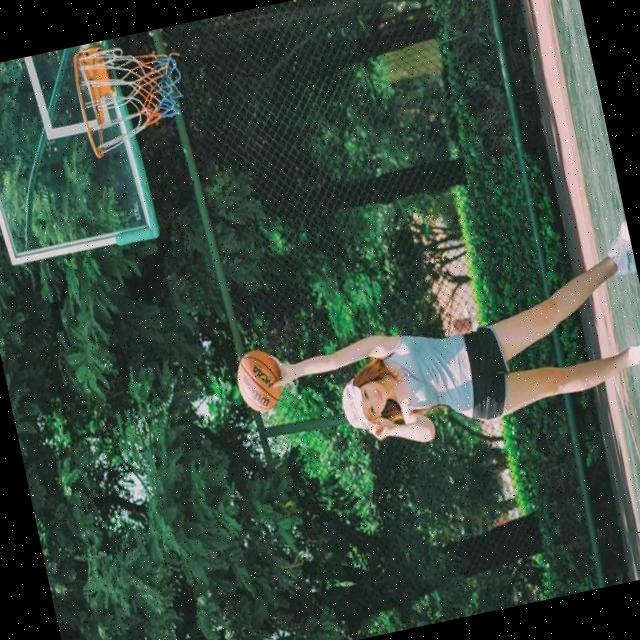ball: (232, 344, 287, 413)
hoop: (65, 42, 115, 170)
